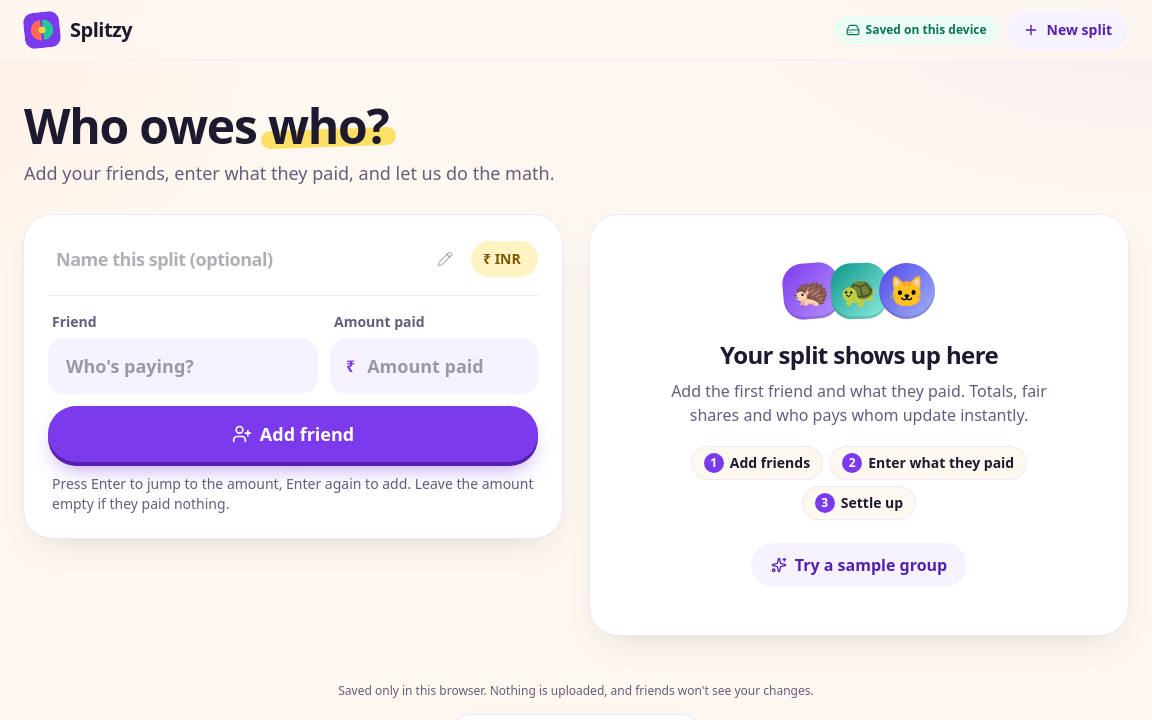
Test: Splitzy app › validates amounts inline
In the field labelled "Friend": x=183, y=366 [48,338,318,394], type "Alice"
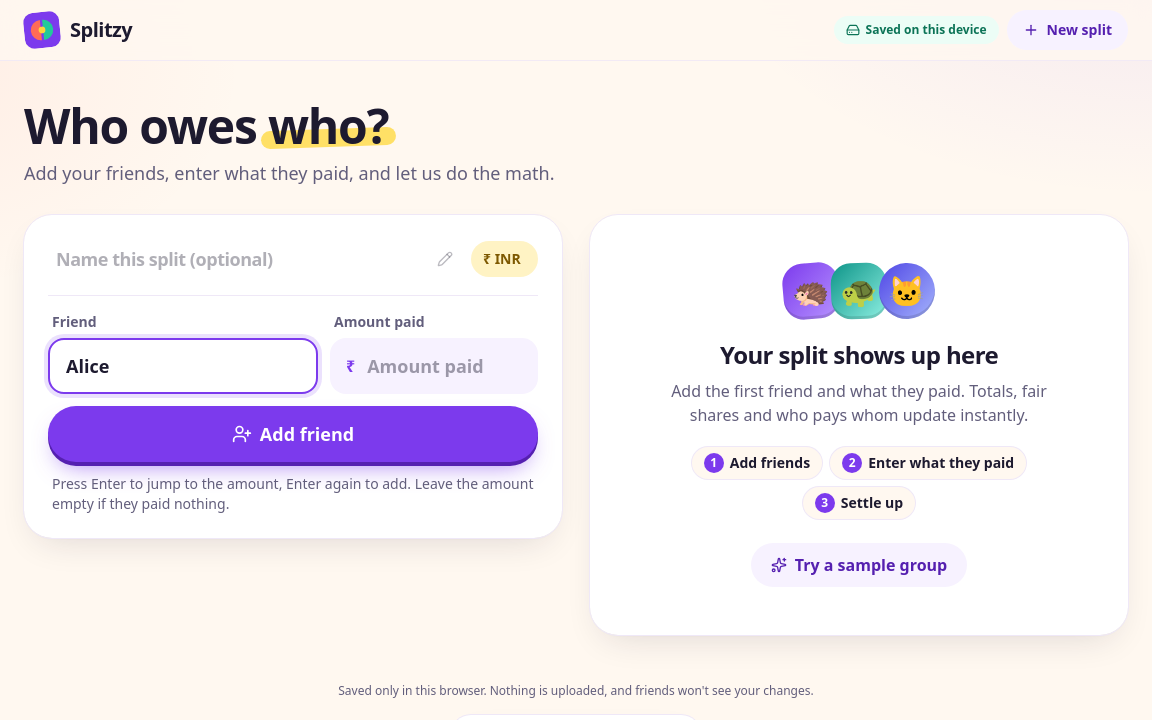
In the field labelled "Amount paid": x=434, y=366 [330,338,538,394], type "-50"
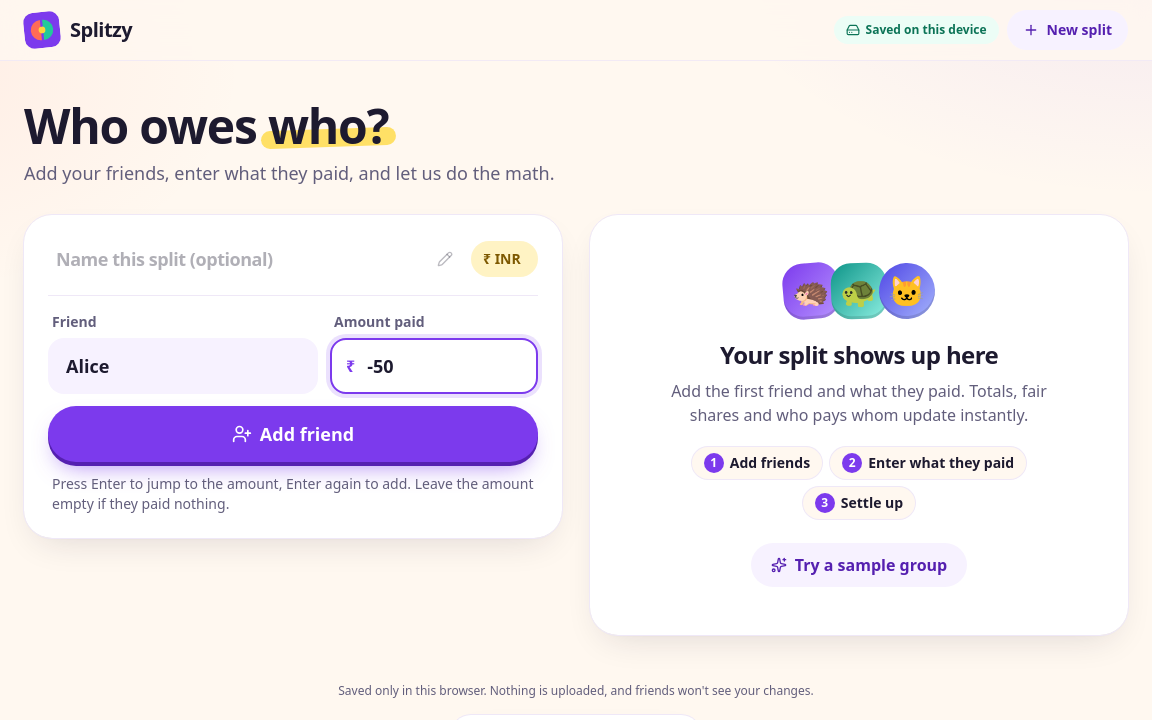
Click the button "Add friend": x=293, y=434 [48,406,538,462]
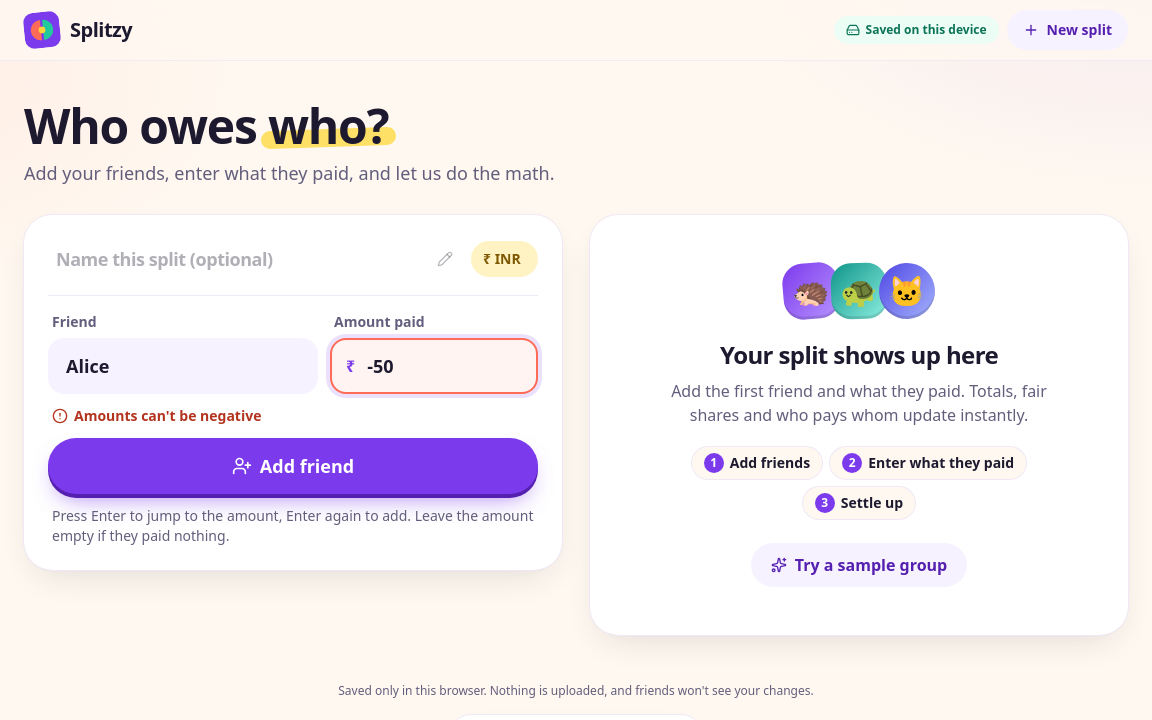
Now the message "Amounts can't be negative" is shown, box [52,406,262,425]
